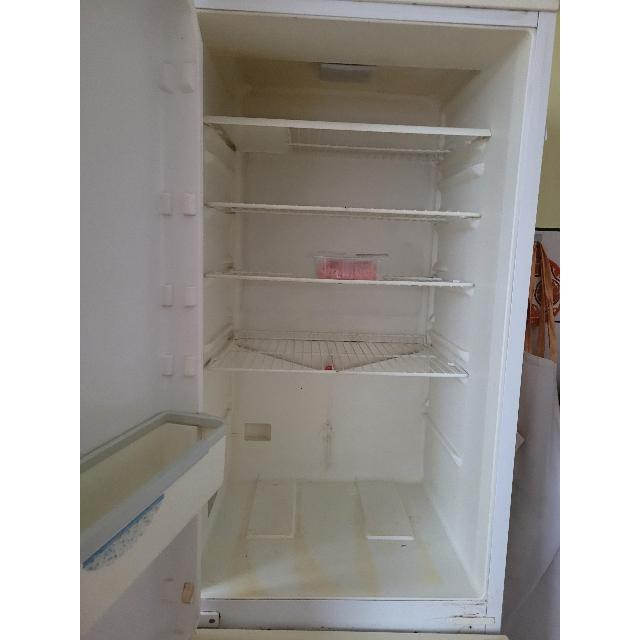meat: (315, 260, 377, 280)
